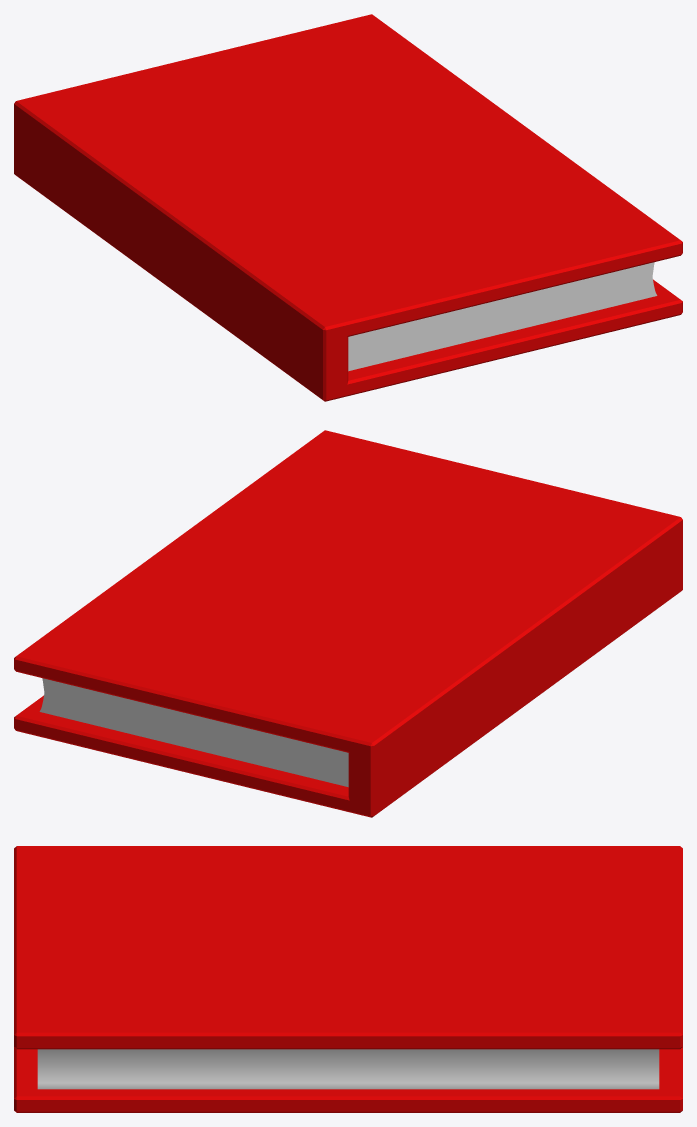
The model's file is Book_3.fbx.
3 renders of one model, top to bottom at view 1: azimuth 30°, elevation 25°; view 2: azimuth 150°, elevation 25°; view 3: azimuth 270°, elevation 25°, orthographic. The views are drawn at different scales.
Visible parts, largest first — view 1: pCube1; view 2: pCube1; view 3: pCube1.
Part boxes in pixels (box(x1,y1,x2,y2)): pCube1: box(14, 14, 682, 401); pCube1: box(14, 430, 682, 817); pCube1: box(14, 846, 682, 1112).
Bounding box in the file's own units: 3.76 × 0.7452 × 5.63.
